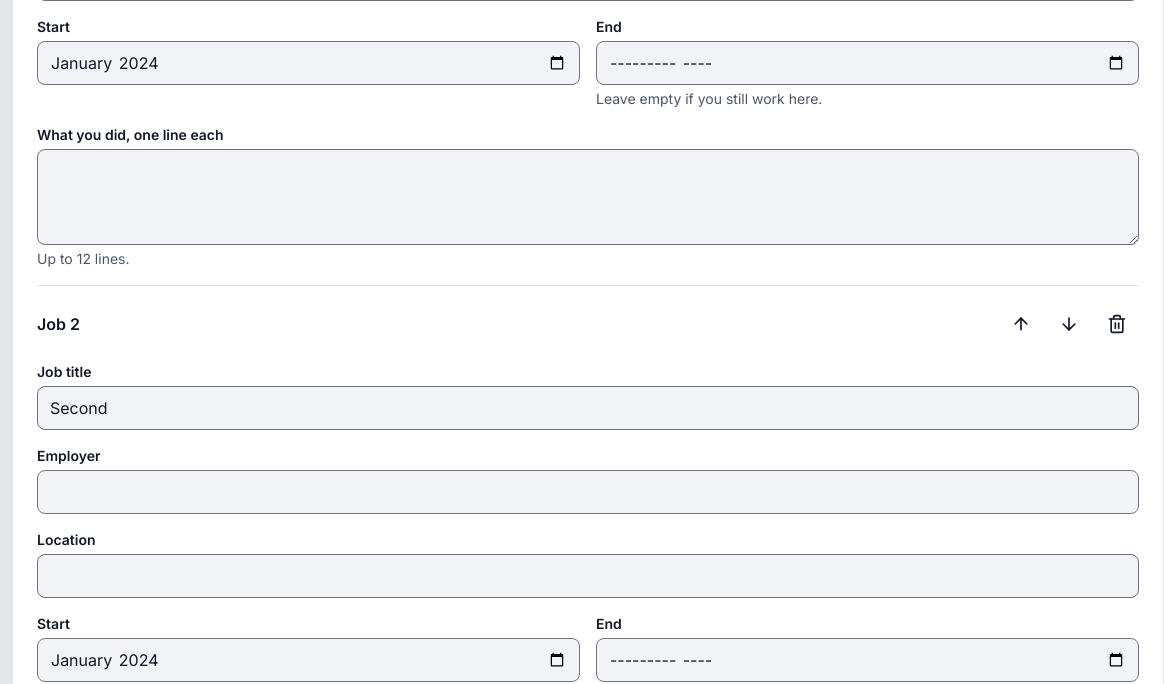
section editor entries › moves entries up and down and disables the ends
The width and height of the screenshot is (1164, 684).
(page scrolled)
Click the button named "Move job 2 up" at (1021, 324), box [999, 302, 1043, 346]
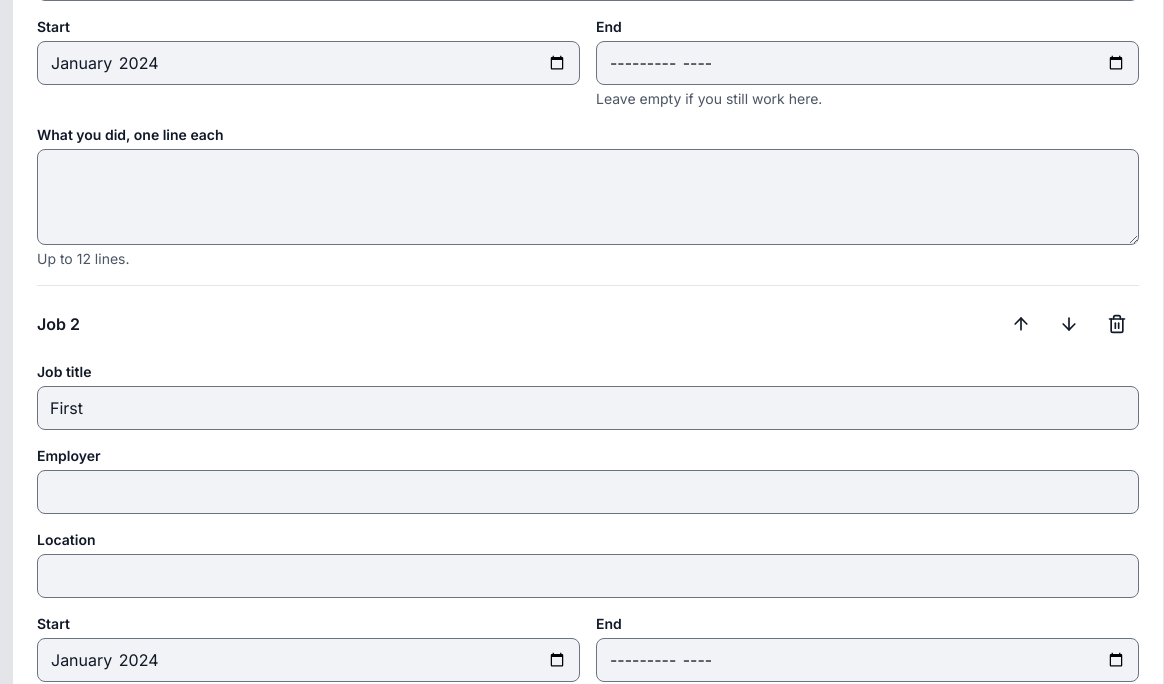
Click the button named "Move job 2 down" at (1069, 324), box [1047, 302, 1091, 346]
(page scrolled)
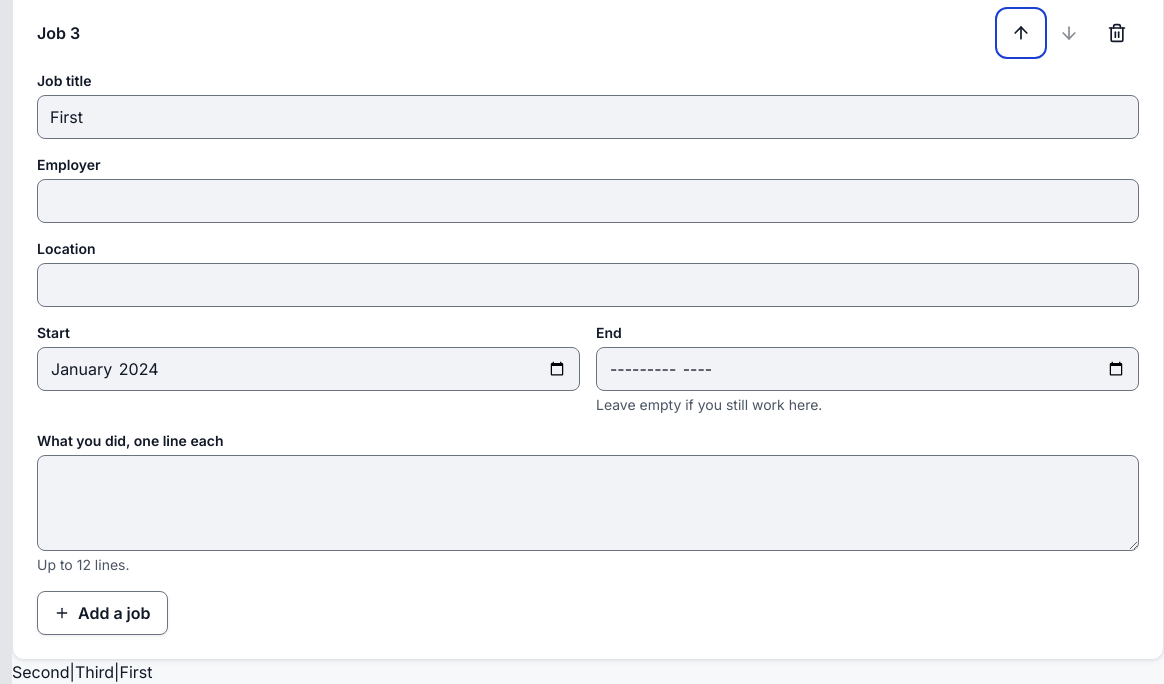
Expected: the text with test id "roles" reads "Second|Third|First", [12, 662, 152, 682]
